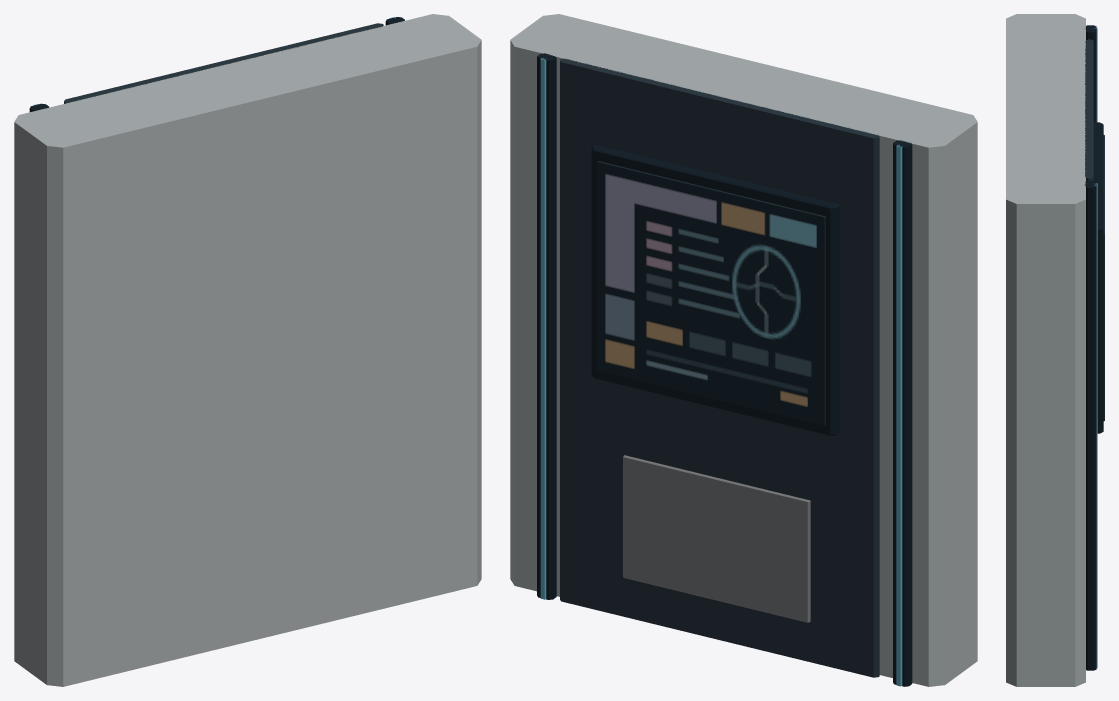
Rendered from transporter_middle.obj.
The picture shows the model from 3 angles, left to right: view 1: azimuth 30°, elevation 25°; view 2: azimuth 150°, elevation 25°; view 3: azimuth 270°, elevation 25°; orthographic projection. The views are drawn at different scales.
Parts seen in each view (by area): view 1: middle_rear_spine, middle_recessed_backpanel; view 2: middle_recessed_backpanel, middle_rear_spine, middle_inset_instrument, middle_lower_access_panel, middle_instrument_bezel, middle_left_light_socket, middle_right_light_socket, middle_left_guide_light, middle_right_guide_light; view 3: middle_rear_spine, middle_right_light_socket, middle_instrument_bezel, middle_recessed_backpanel, middle_right_guide_light, middle_inset_instrument, middle_left_light_socket, middle_left_guide_light.
Boxes of the visible parts, x1,y1,x2,y2 form: middle_rear_spine: [14, 14, 481, 686]; middle_recessed_backpanel: [64, 23, 383, 103]; middle_recessed_backpanel: [560, 58, 879, 677]; middle_rear_spine: [510, 14, 977, 686]; middle_inset_instrument: [597, 161, 825, 425]; middle_lower_access_panel: [623, 455, 810, 622]; middle_instrument_bezel: [591, 145, 839, 435]; middle_left_light_socket: [893, 140, 912, 686]; middle_right_light_socket: [537, 53, 556, 599]; middle_left_guide_light: [896, 144, 902, 686]; middle_right_guide_light: [540, 58, 546, 599]; middle_rear_spine: [1006, 14, 1085, 686]; middle_right_light_socket: [1085, 180, 1096, 670]; middle_instrument_bezel: [1093, 122, 1103, 433]; middle_recessed_backpanel: [1085, 39, 1093, 181]; middle_right_guide_light: [1094, 183, 1097, 668]; middle_inset_instrument: [1103, 135, 1104, 420]; middle_left_light_socket: [1085, 25, 1096, 122]; middle_left_guide_light: [1094, 27, 1097, 122].
Size of the model in its own units: 0.8438 by 1 by 0.1856.
